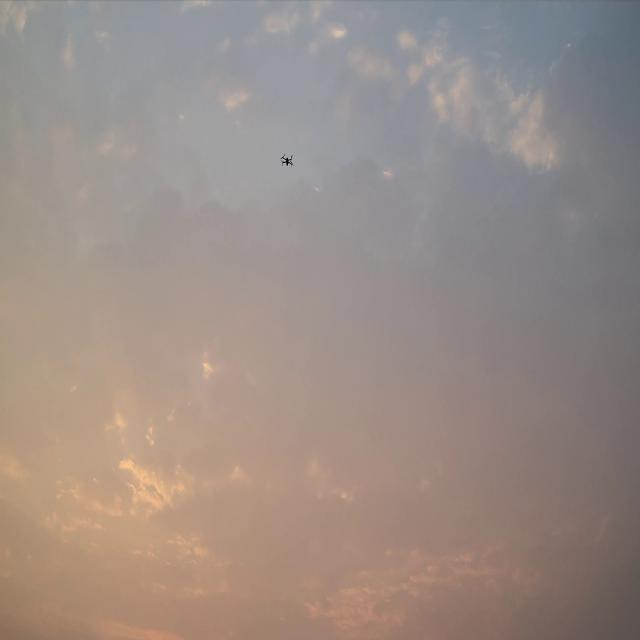drone: (280, 152, 296, 168)
